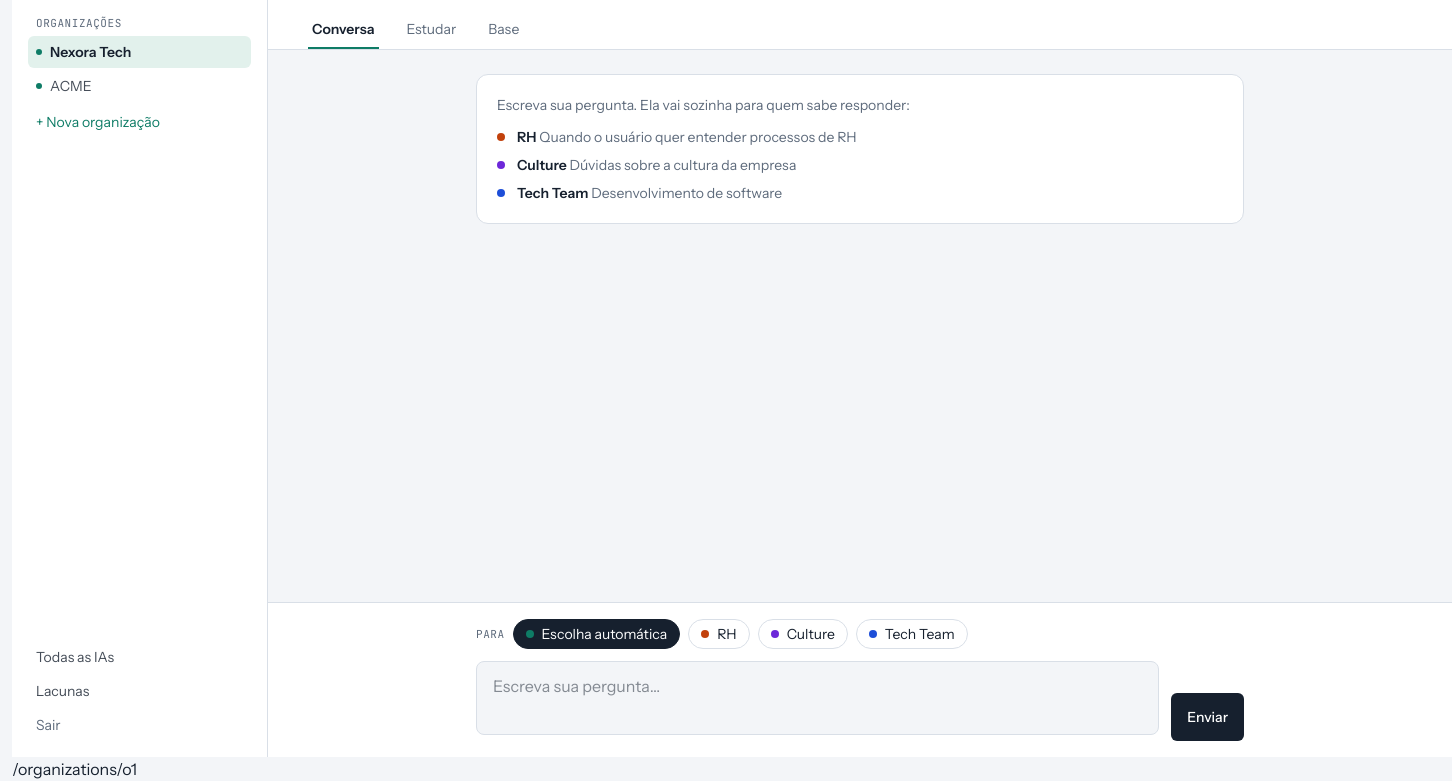
Test: organization chat › chat clarify lets the user pick
(page scrolled)
Type "Posso trabalhar de casa?" into the text box named "Mensagem".
click(818, 698); type("Posso trabalhar de casa?")  # box [476,661,1159,735]
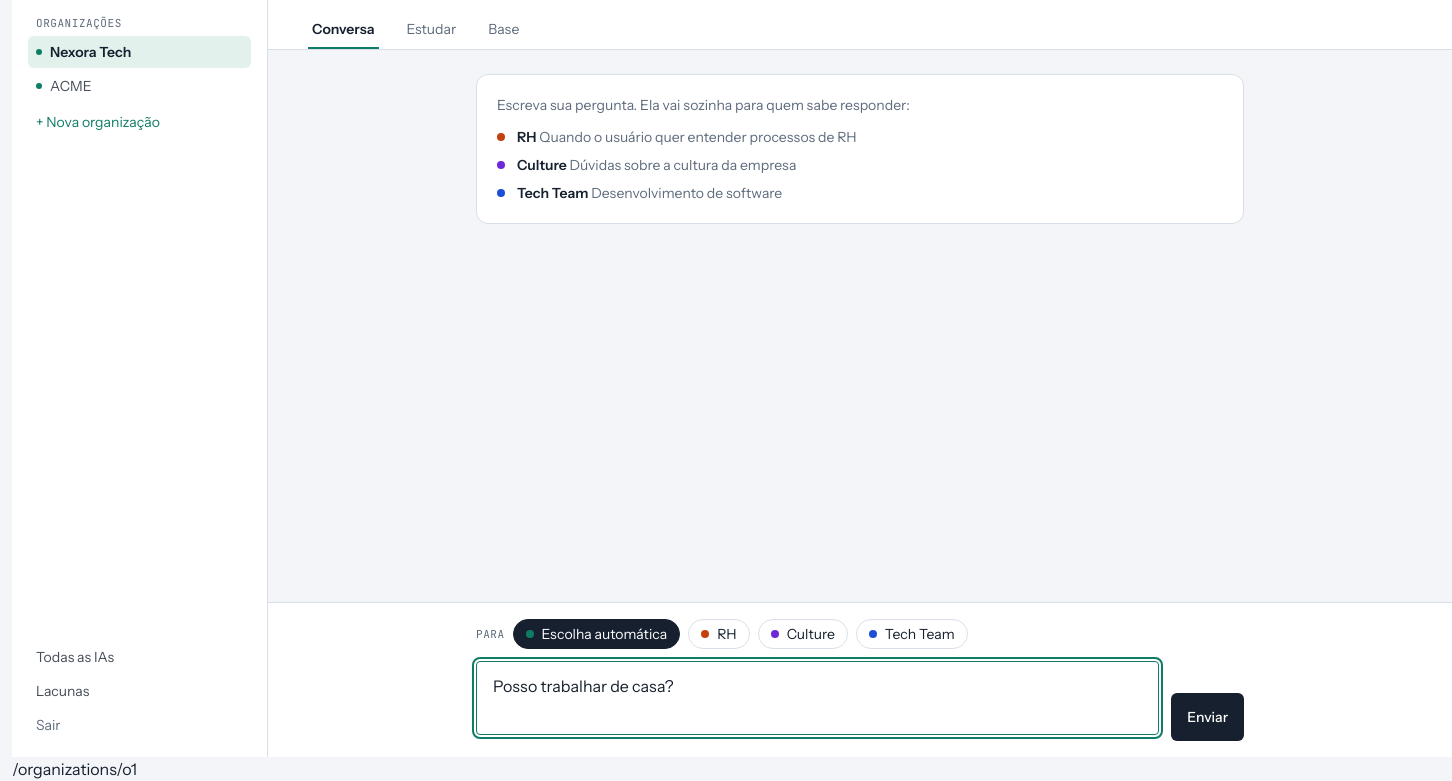
Click the button "Enviar".
click(1208, 717)  # box [1171,693,1244,741]
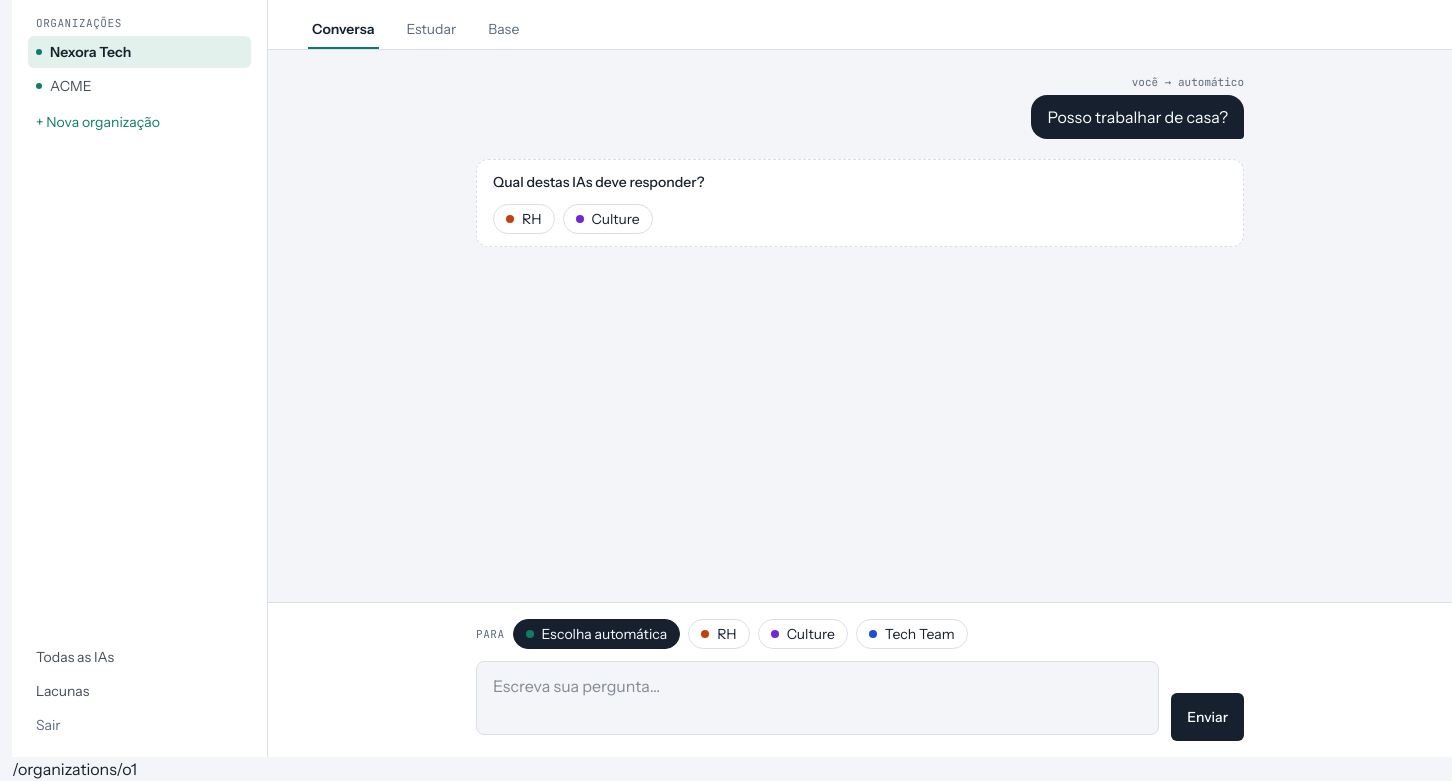
Now the text "Qual destas IAs deve responder?" is shown, box [493,172,704,190]
Click the button "Culture".
click(608, 218)  # box [562,204,653,234]
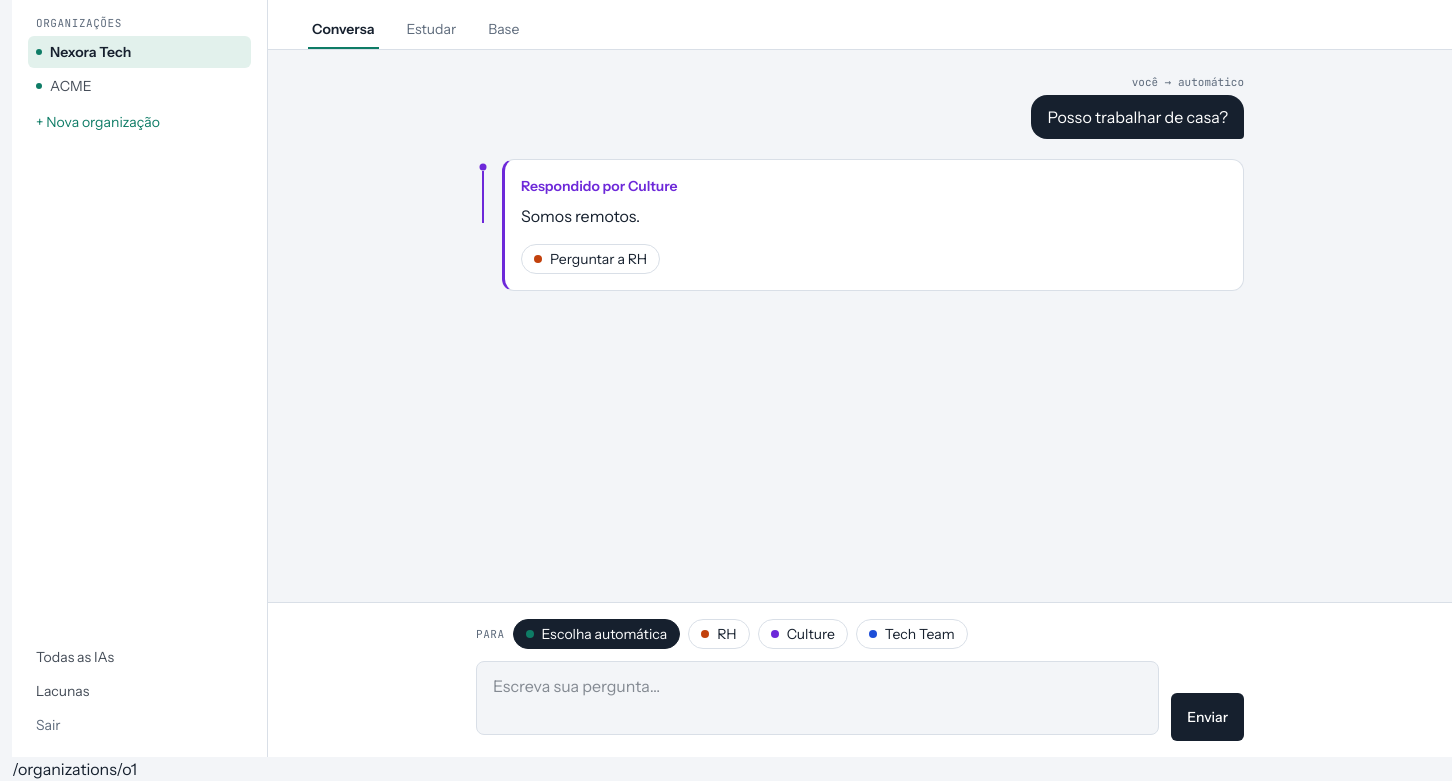
Now the text "Respondido por Culture" is shown, box [521,176,678,196]
Now the text "Somos remotos." is shown, box [521,206,640,226]
